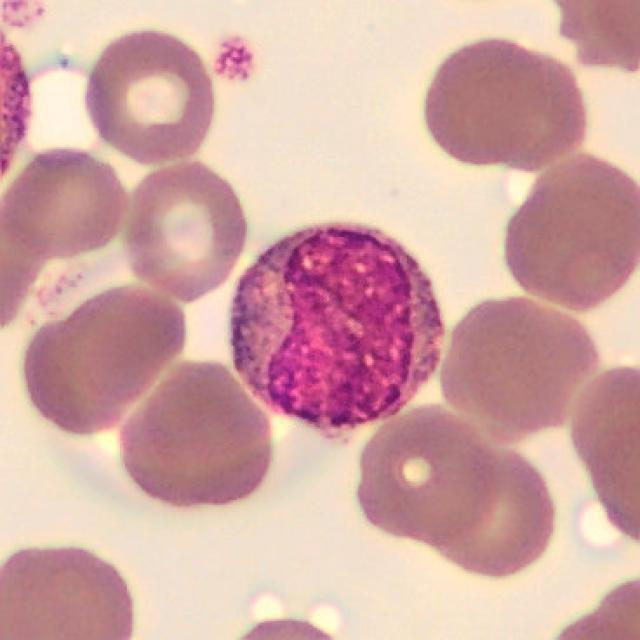Metamielocito: (230, 223, 445, 446)
